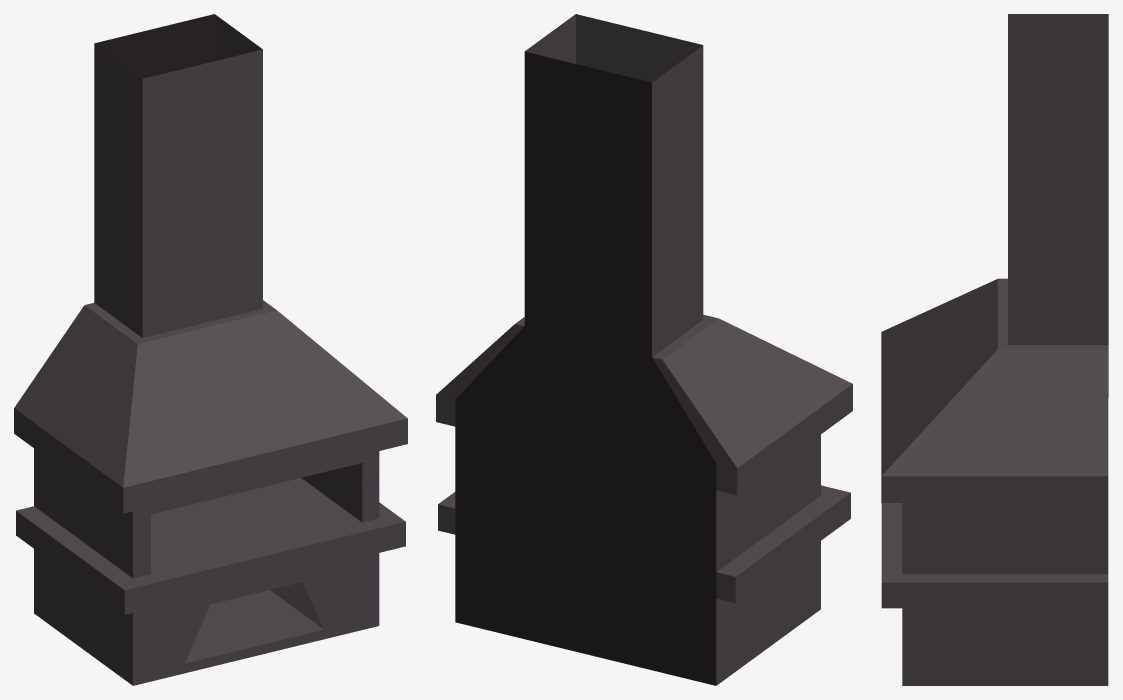
File: Inn_chimney.fbx
3 views of the same model, side by side, from view 1: azimuth 30°, elevation 25°; view 2: azimuth 150°, elevation 25°; view 3: azimuth 270°, elevation 25° (orthographic). The views are drawn at different scales.
Parts seen in each view (by area): view 1: Chiney; view 2: Chiney; view 3: Chiney.
Part boxes in pixels (x1=…): Chiney: x1=14, y1=14, x2=407, y2=685; Chiney: x1=436, y1=14, x2=852, y2=685; Chiney: x1=881, y1=14, x2=1108, y2=685.
Bounding box in the file's own units: 178 × 332 × 119.
Materials: 1 (1 with a texture image).
